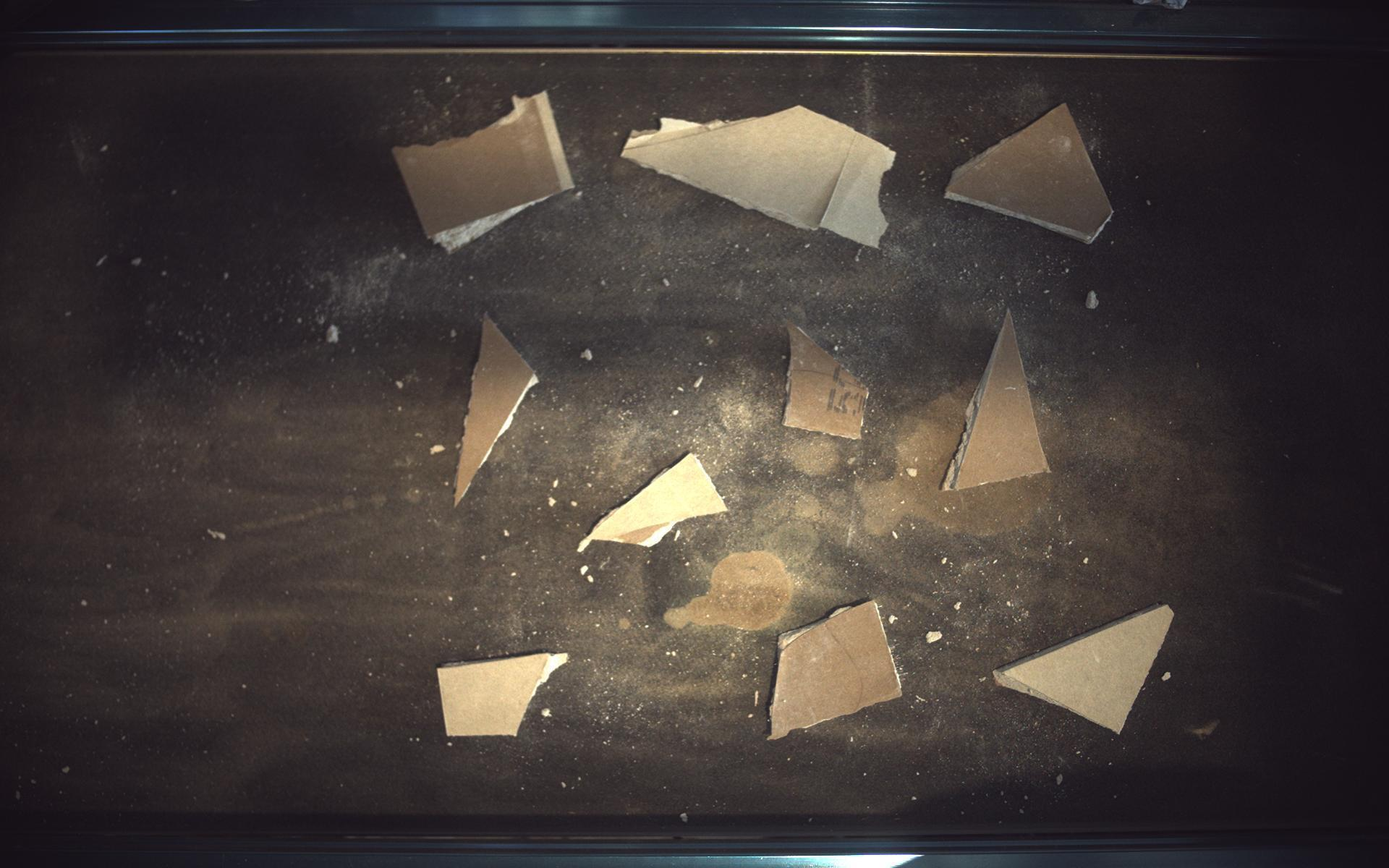gypsum_board: (623, 105, 896, 246), (393, 90, 574, 252), (947, 103, 1115, 243), (995, 605, 1177, 734), (943, 310, 1053, 491), (770, 601, 903, 741), (454, 314, 538, 505), (578, 453, 728, 552), (437, 653, 568, 739), (786, 322, 870, 439)
